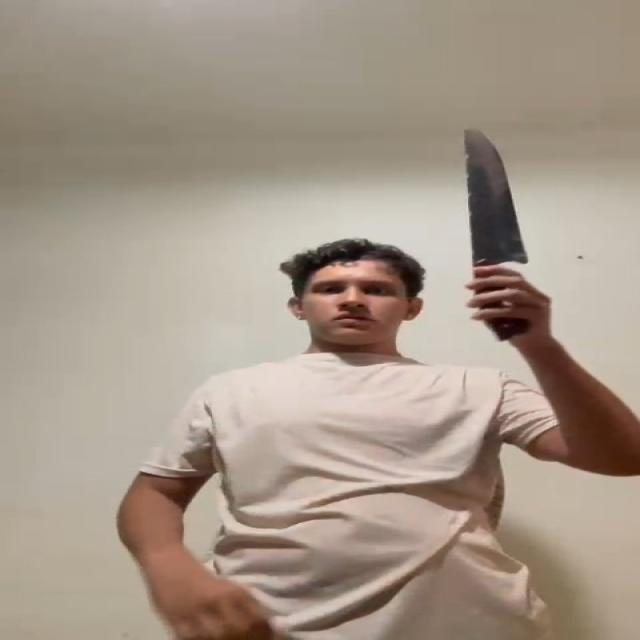knife: (465, 128, 525, 266)
